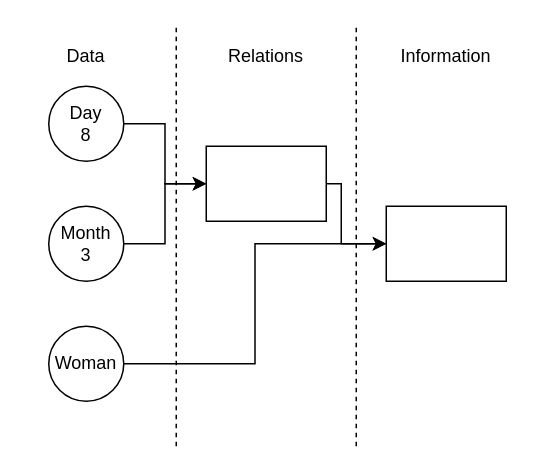
Some shapes in this 533 by 474 pixel diagram are drawn without their labels. The box of each missing label's shape, as (x1, y1, x2, y2) in pixels:
Date: (205, 145, 326, 221)
Woman's Day: (385, 205, 506, 281)
